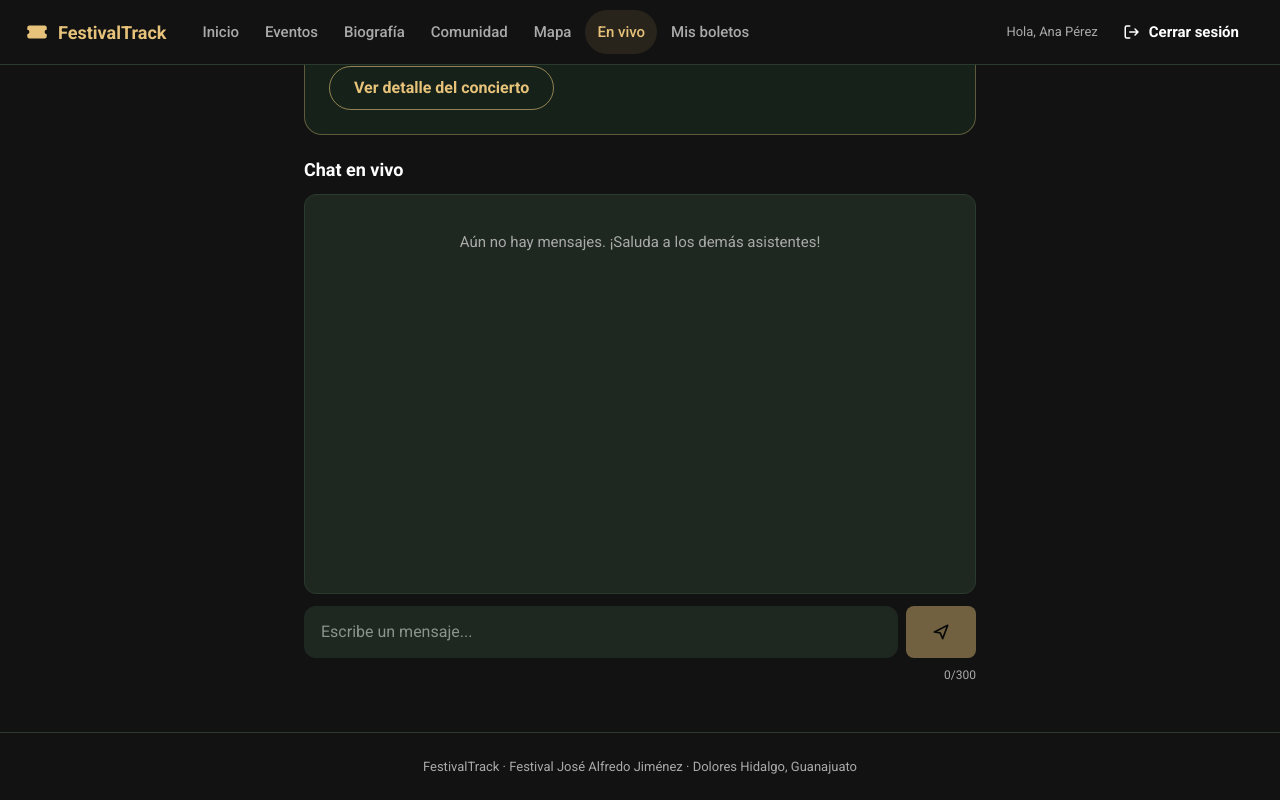
Test: En vivo (/en-vivo) › un error al enviar muestra un aviso claro y conserva el texto escrito
The width and height of the screenshot is (1280, 800).
(page scrolled)
Type "hola a todos" into the field at (601, 632), box [304,606,898,658]
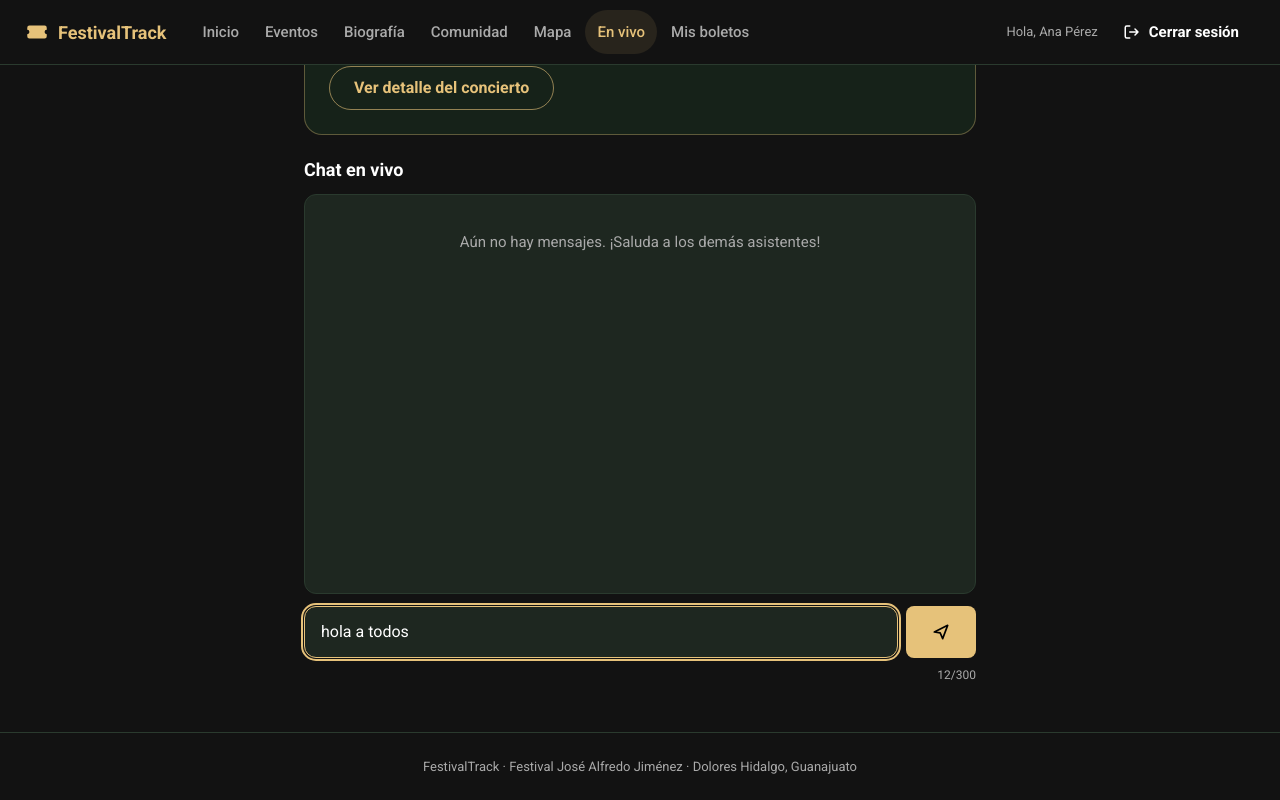
Click the button named "Enviar mensaje" at (941, 632), box [906,606,976,658]
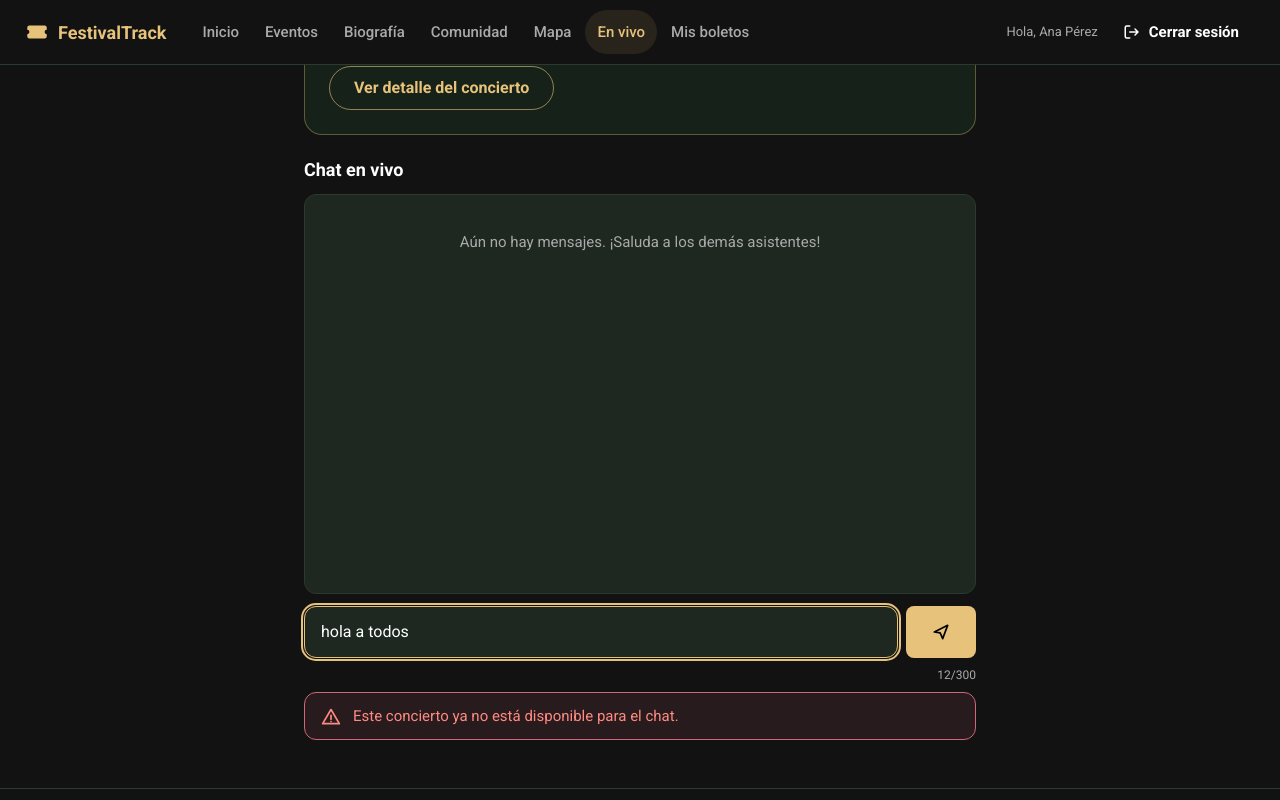
Expected: the message reads "Este concierto ya no está disponible para el chat.", [353,706,679,724]
